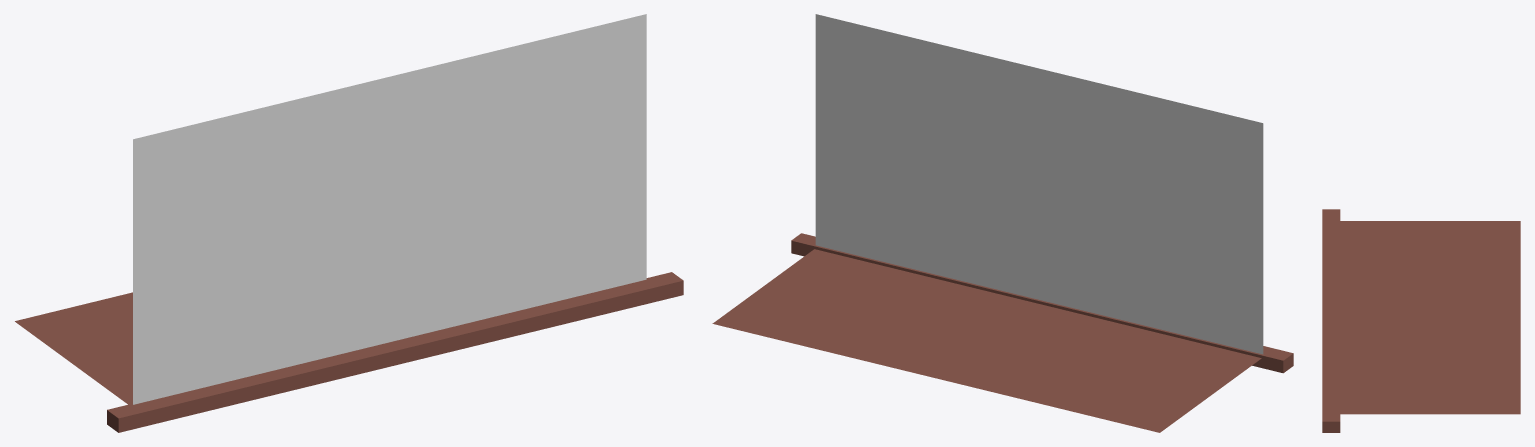
The model's file is GalleryWall.fbx.
3 views of the same model, side by side, from view 1: azimuth 30°, elevation 25°; view 2: azimuth 150°, elevation 25°; view 3: azimuth 270°, elevation 25° (orthographic). The views are drawn at different scales.
Parts seen in each view (by area): view 1: Plane, Cube; view 2: Plane, Cube; view 3: Plane, Cube.
Boxes of the visible parts, x1,y1,x2,y2 form: Plane: [15, 14, 646, 404]; Cube: [107, 272, 683, 432]; Plane: [712, 14, 1263, 432]; Cube: [791, 233, 1293, 373]; Plane: [1340, 221, 1520, 414]; Cube: [1322, 209, 1340, 432].
Bounding box in the file's own units: 1100 × 521 × 435.
